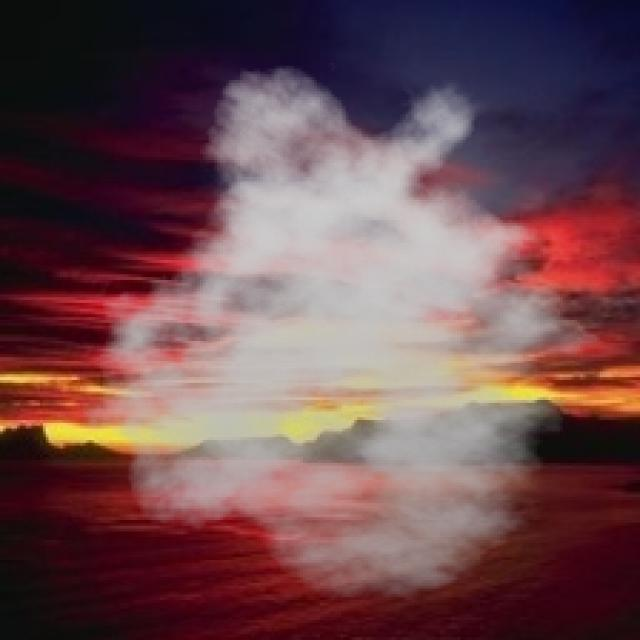smoke: (69, 63, 626, 600)
